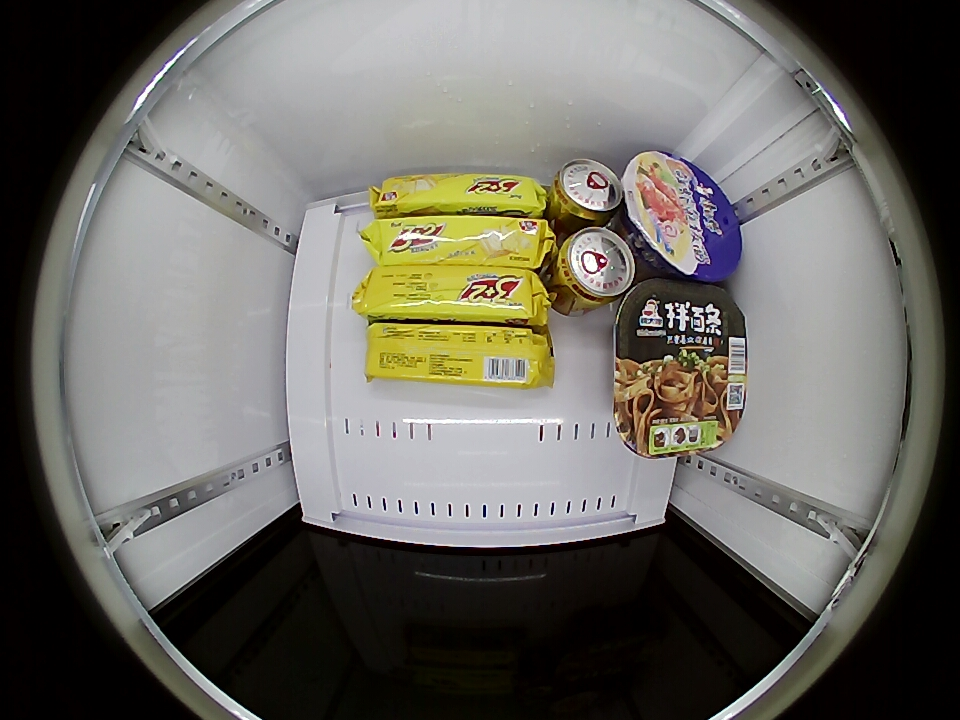3+2-2: (365, 324, 552, 388), (355, 266, 548, 324), (369, 216, 552, 267), (369, 173, 548, 217)
dongpeng: (555, 226, 636, 309), (549, 158, 624, 225)
gudasao: (613, 279, 749, 459)
xianxiayuban: (622, 150, 743, 282)
